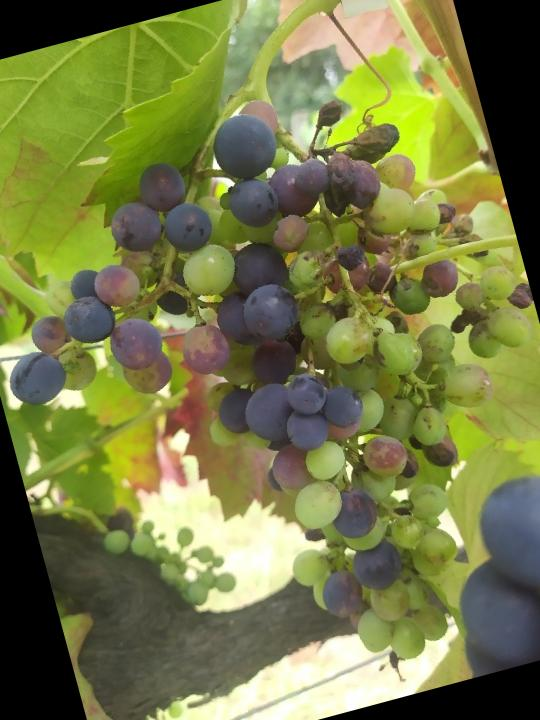grape: (0, 39, 540, 720)
